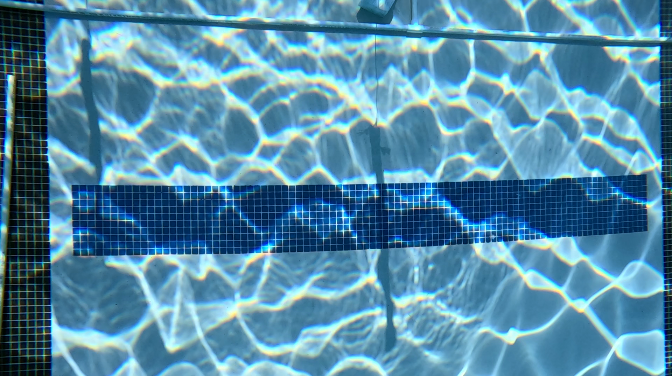sandbag: (360, 0, 394, 15)
